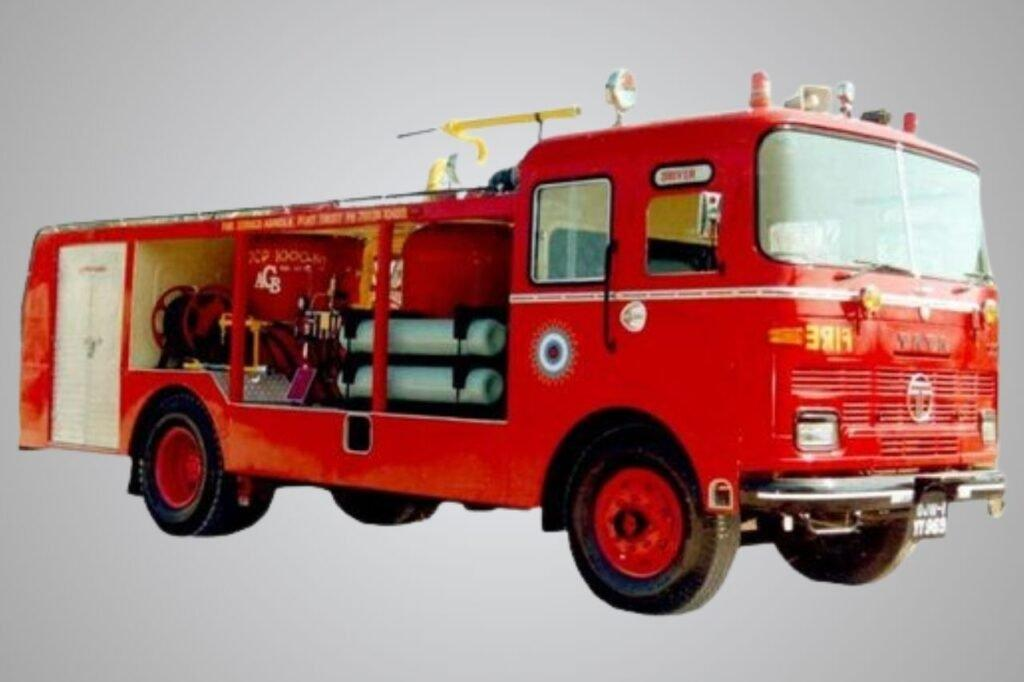Fire-engine: (71, 126, 1024, 676)
